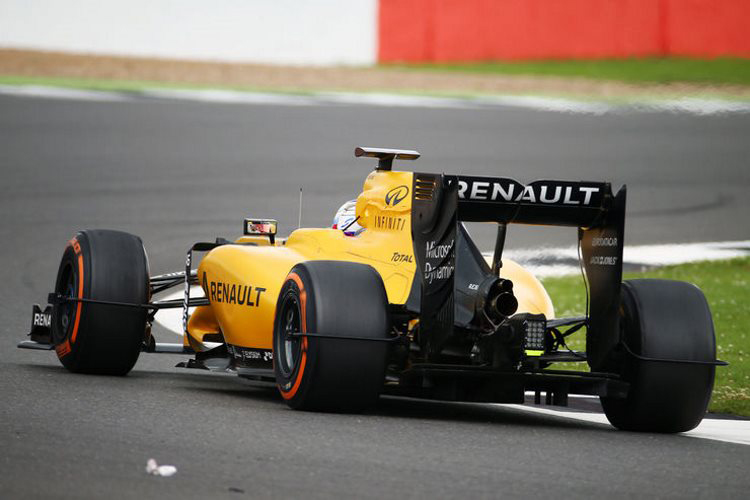F1 Car: (27, 139, 722, 436)
